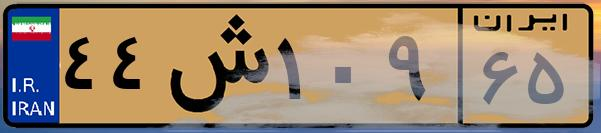0: (330, 28, 385, 110)
1: (270, 28, 330, 110)
4: (57, 26, 110, 100), (110, 28, 158, 98)
5: (525, 38, 570, 115)
6: (475, 38, 525, 113)
9: (385, 28, 445, 110)
ش: (158, 12, 270, 120)
